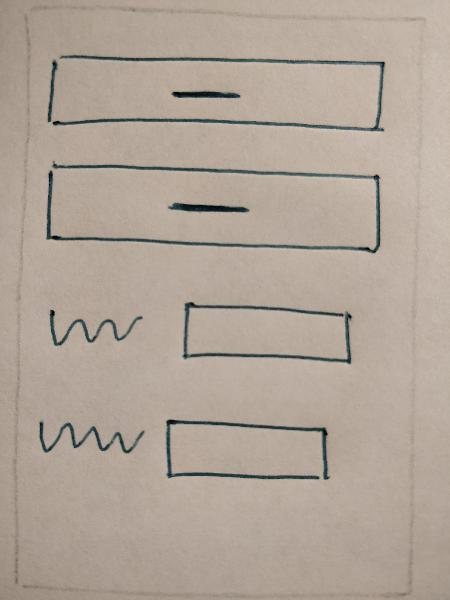button: (41, 155, 392, 256), (43, 46, 394, 141)
text: (40, 292, 148, 368), (35, 407, 147, 467)
text_input: (171, 288, 362, 381), (159, 403, 350, 496)
